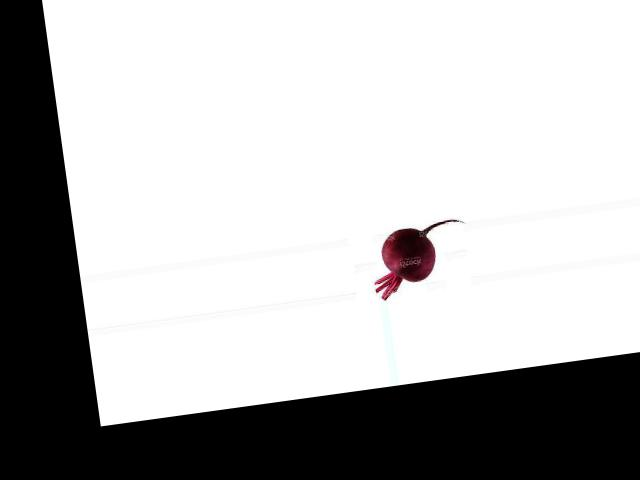beet: (367, 218, 473, 301)
